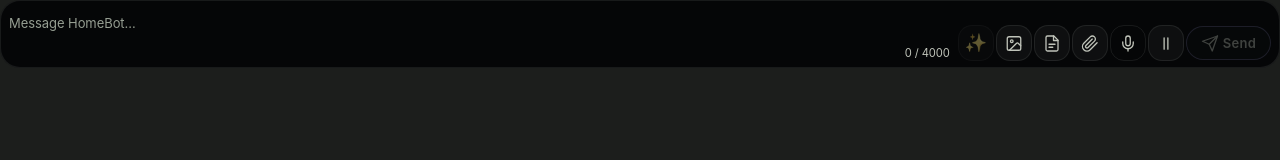
Test: a successful rewrite › sends the draft and puts the rewrite in the box
Type "fetch and sumerize the bbc front page" into the text box labelled "Message HomeBot" at (453, 34), box [9,5,897,63]
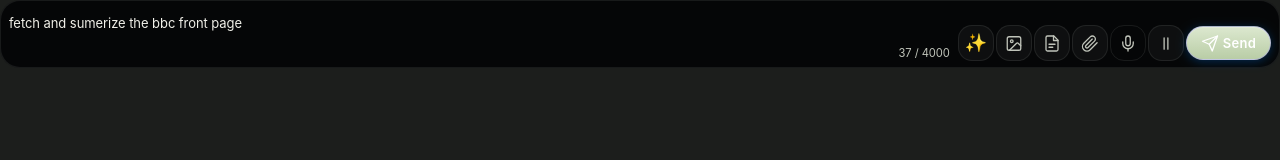
Click the button with test id "improve-prompt" at (976, 43), box [958,25,994,61]
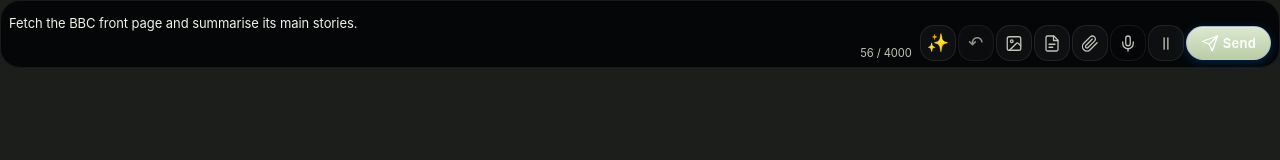
Check: the text box named "Message HomeBot" holds "Fetch the BBC front page and summarise its main stories.", box [9,5,852,63]
